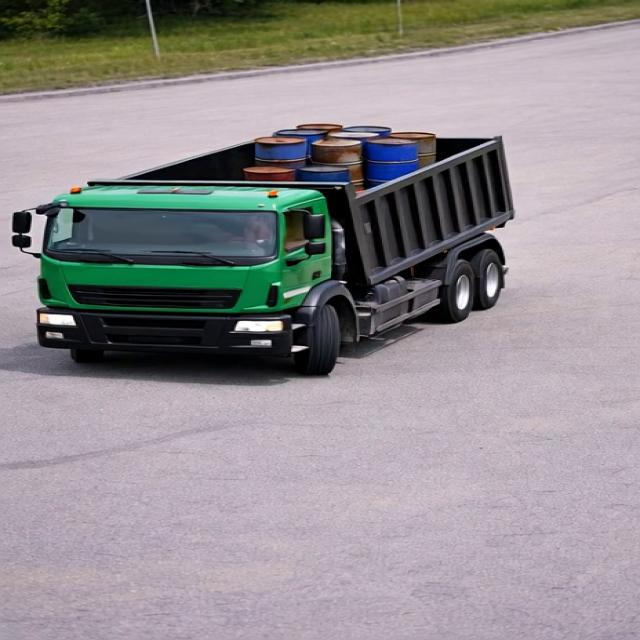Box: (82, 124, 507, 186)
Truck: (9, 99, 526, 370)
